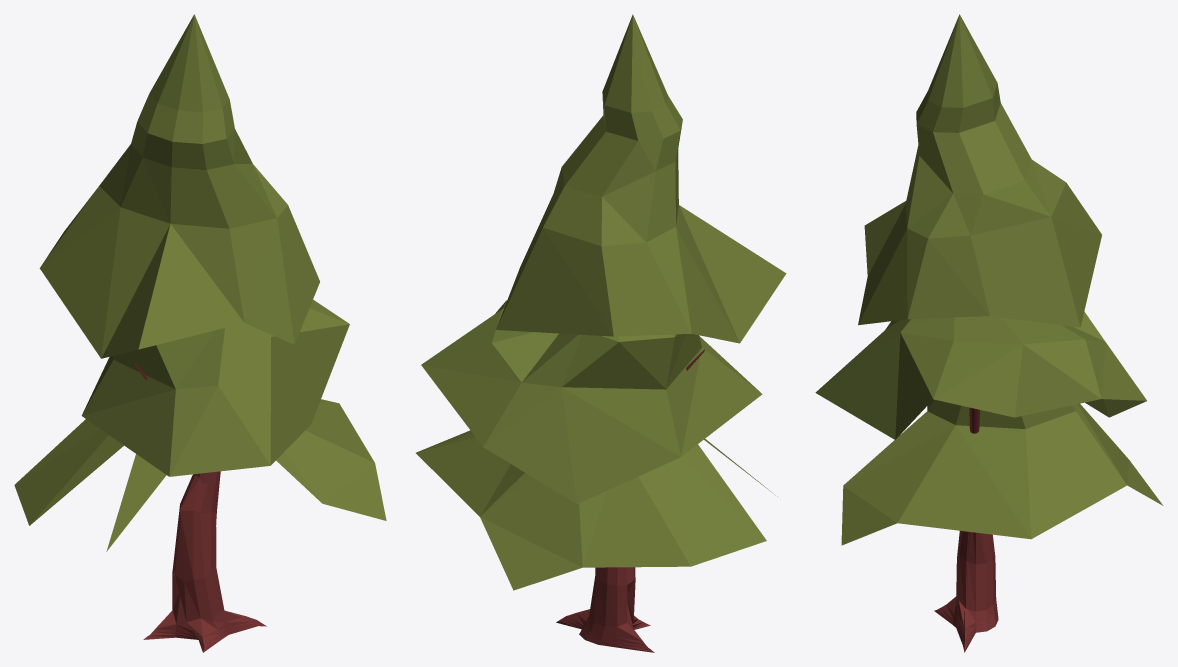
File: tree_04.FBX
3 views of the same model, side by side, from view 1: azimuth 30°, elevation 25°; view 2: azimuth 150°, elevation 25°; view 3: azimuth 270°, elevation 25° (orthographic). The views are drawn at different scales.
Parts seen in each view (by area): view 1: tree_04; view 2: tree_04; view 3: tree_04.
Boxes of the visible parts, bbox=[...] form: tree_04: bbox=[14, 14, 386, 652]; tree_04: bbox=[416, 14, 786, 652]; tree_04: bbox=[815, 14, 1163, 652].
Size of the model in its own units: 5.52 by 10.02 by 5.24.
1 material, 1 textured.
